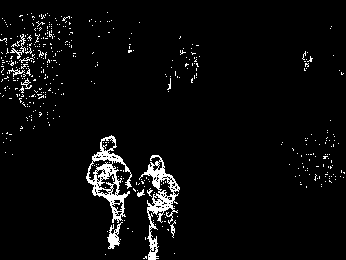person: (85, 133, 132, 251), (133, 153, 180, 260)
